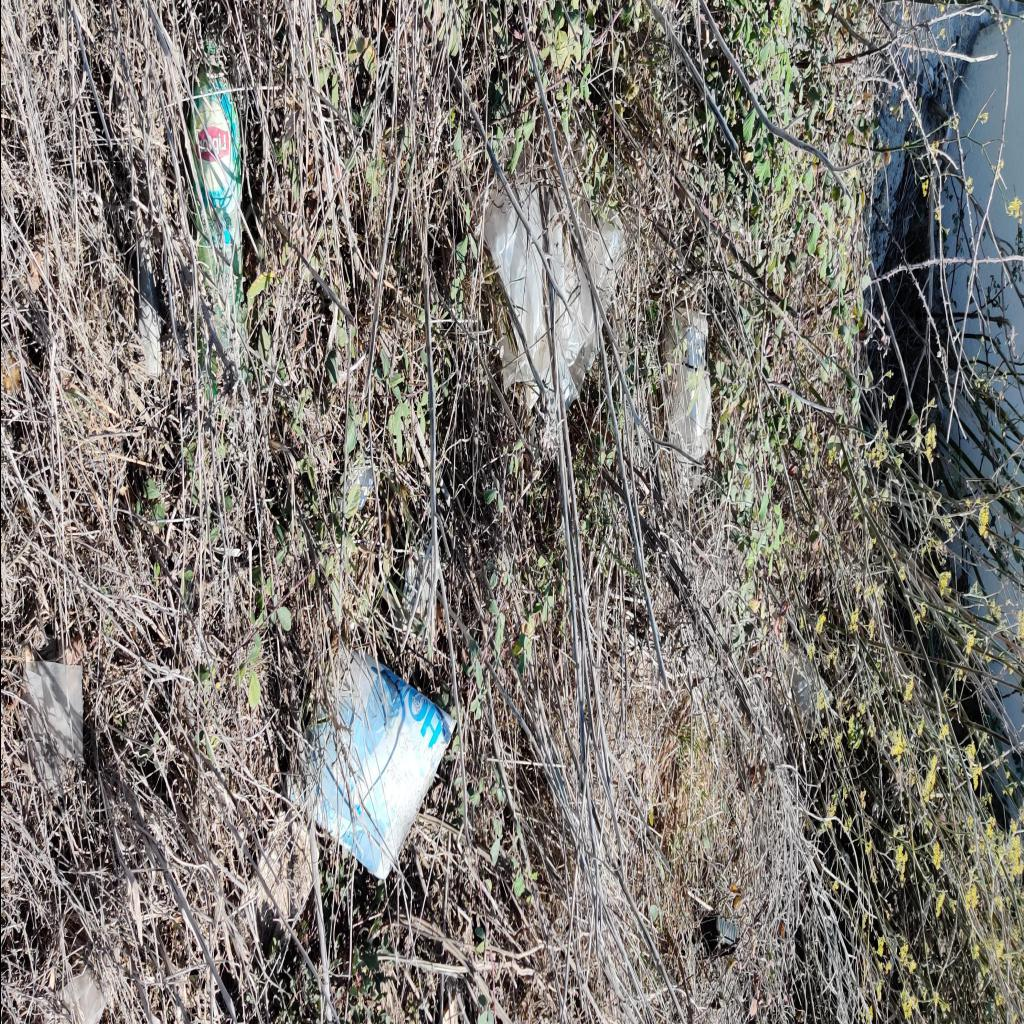Clear plastic bottle: (190, 65, 247, 385)
Other plastic: (306, 638, 456, 880)
Other plastic wrapper: (786, 642, 832, 718)
Plastic film: (483, 166, 627, 412), (22, 662, 82, 796), (44, 967, 106, 1023)
Unlabeled litter: (356, 468, 372, 508)
